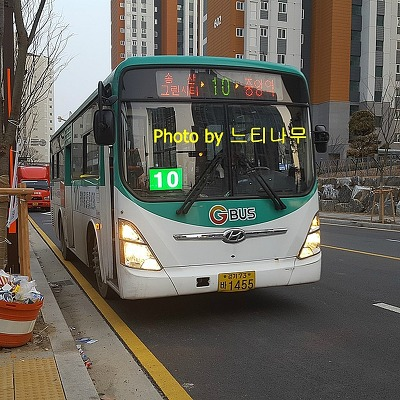bnum: (148, 168, 182, 190)
